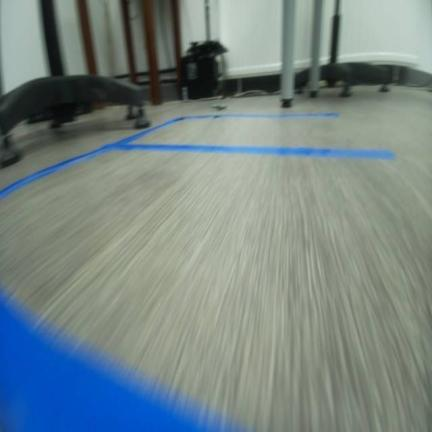place: (0, 139, 431, 431), (104, 110, 392, 159)
